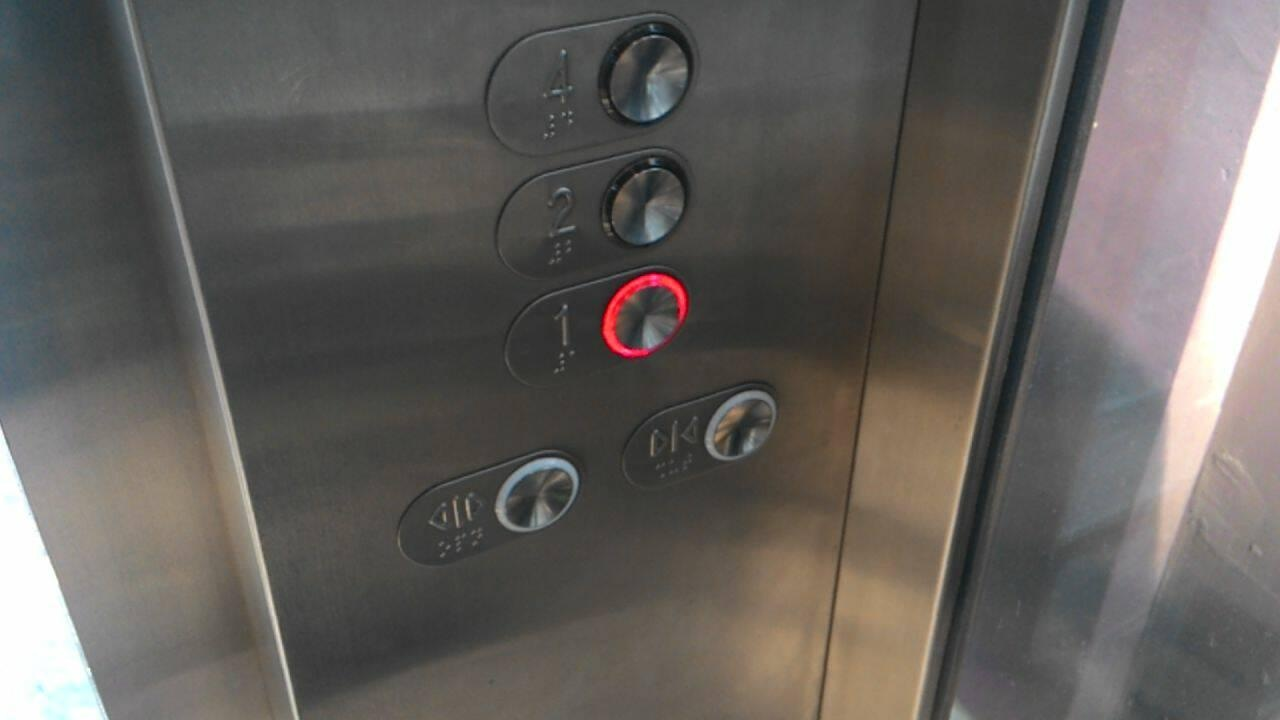1: (506, 263, 693, 387)
2: (490, 147, 694, 277)
4: (487, 13, 698, 155)
close: (625, 377, 788, 490)
open: (396, 446, 587, 569)
